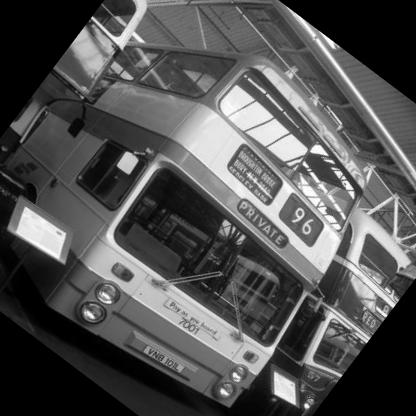bus: (1, 1, 412, 416), (217, 194, 416, 416)
